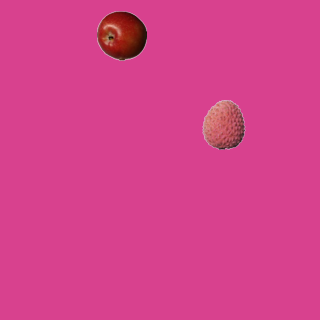Apple Braeburn: (96, 10, 146, 60)
Lychee: (198, 99, 248, 149)
